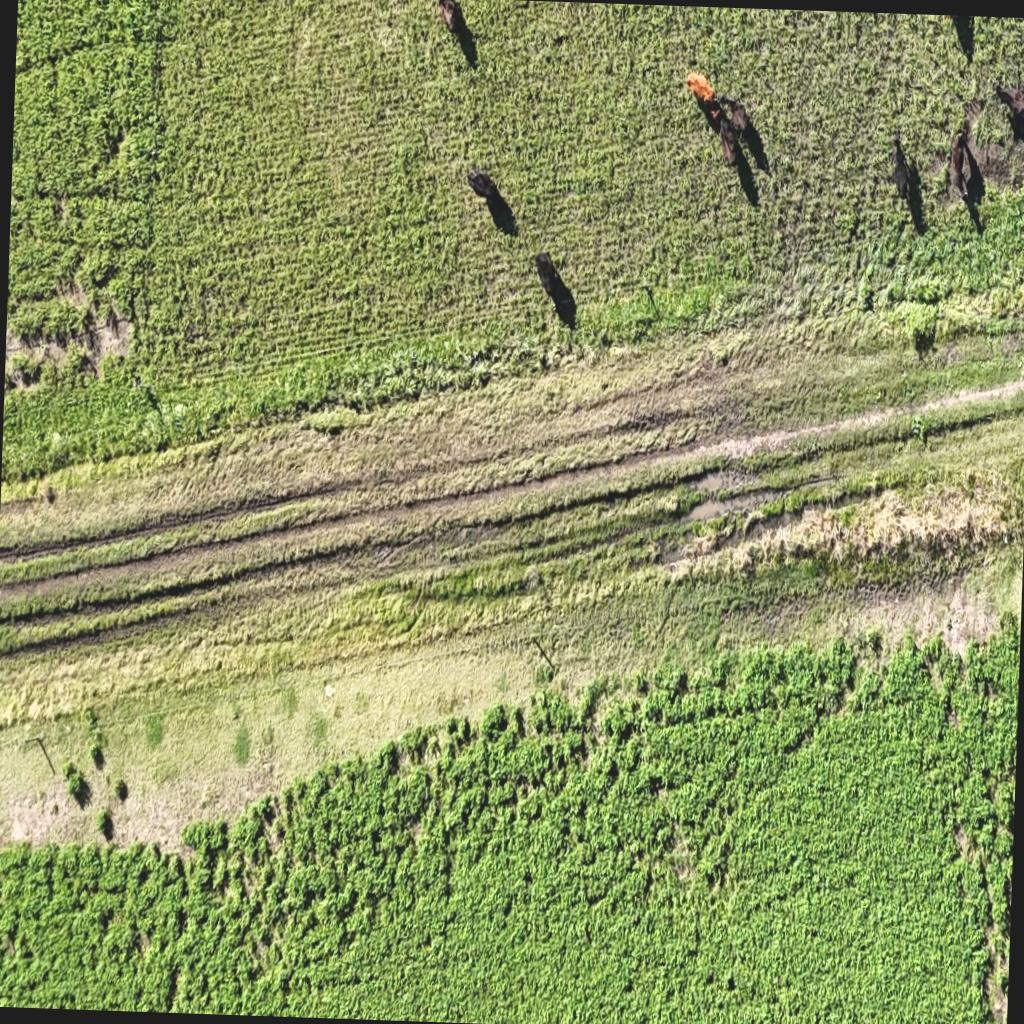cow: (684, 72, 736, 164), (716, 97, 767, 174), (464, 168, 514, 234), (531, 250, 576, 322), (949, 125, 985, 208), (990, 73, 1024, 156), (889, 137, 918, 219), (942, 16, 974, 60), (435, 0, 467, 40), (465, 167, 494, 197), (806, 10, 816, 66)
